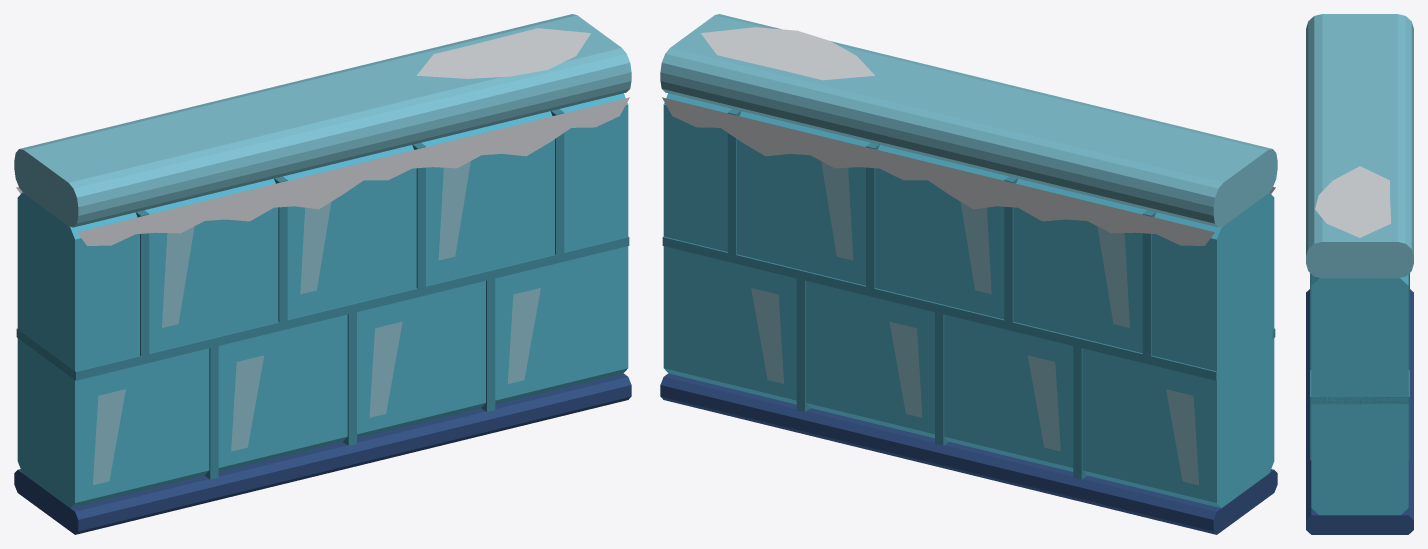
The model's file is ice-wall1.glb.
The picture shows the model from 3 angles, left to right: view 1: azimuth 30°, elevation 25°; view 2: azimuth 150°, elevation 25°; view 3: azimuth 270°, elevation 25°; orthographic projection. The views are drawn at different scales.
Parts seen in each view (by area): view 1: ice-wall1; view 2: ice-wall1; view 3: ice-wall1.
Part boxes in pixels (bbox=[...]): ice-wall1: bbox=[14, 14, 631, 534]; ice-wall1: bbox=[660, 14, 1277, 534]; ice-wall1: bbox=[1306, 14, 1413, 534].
Size of the model in its own units: 2 by 1.2 by 0.4.
